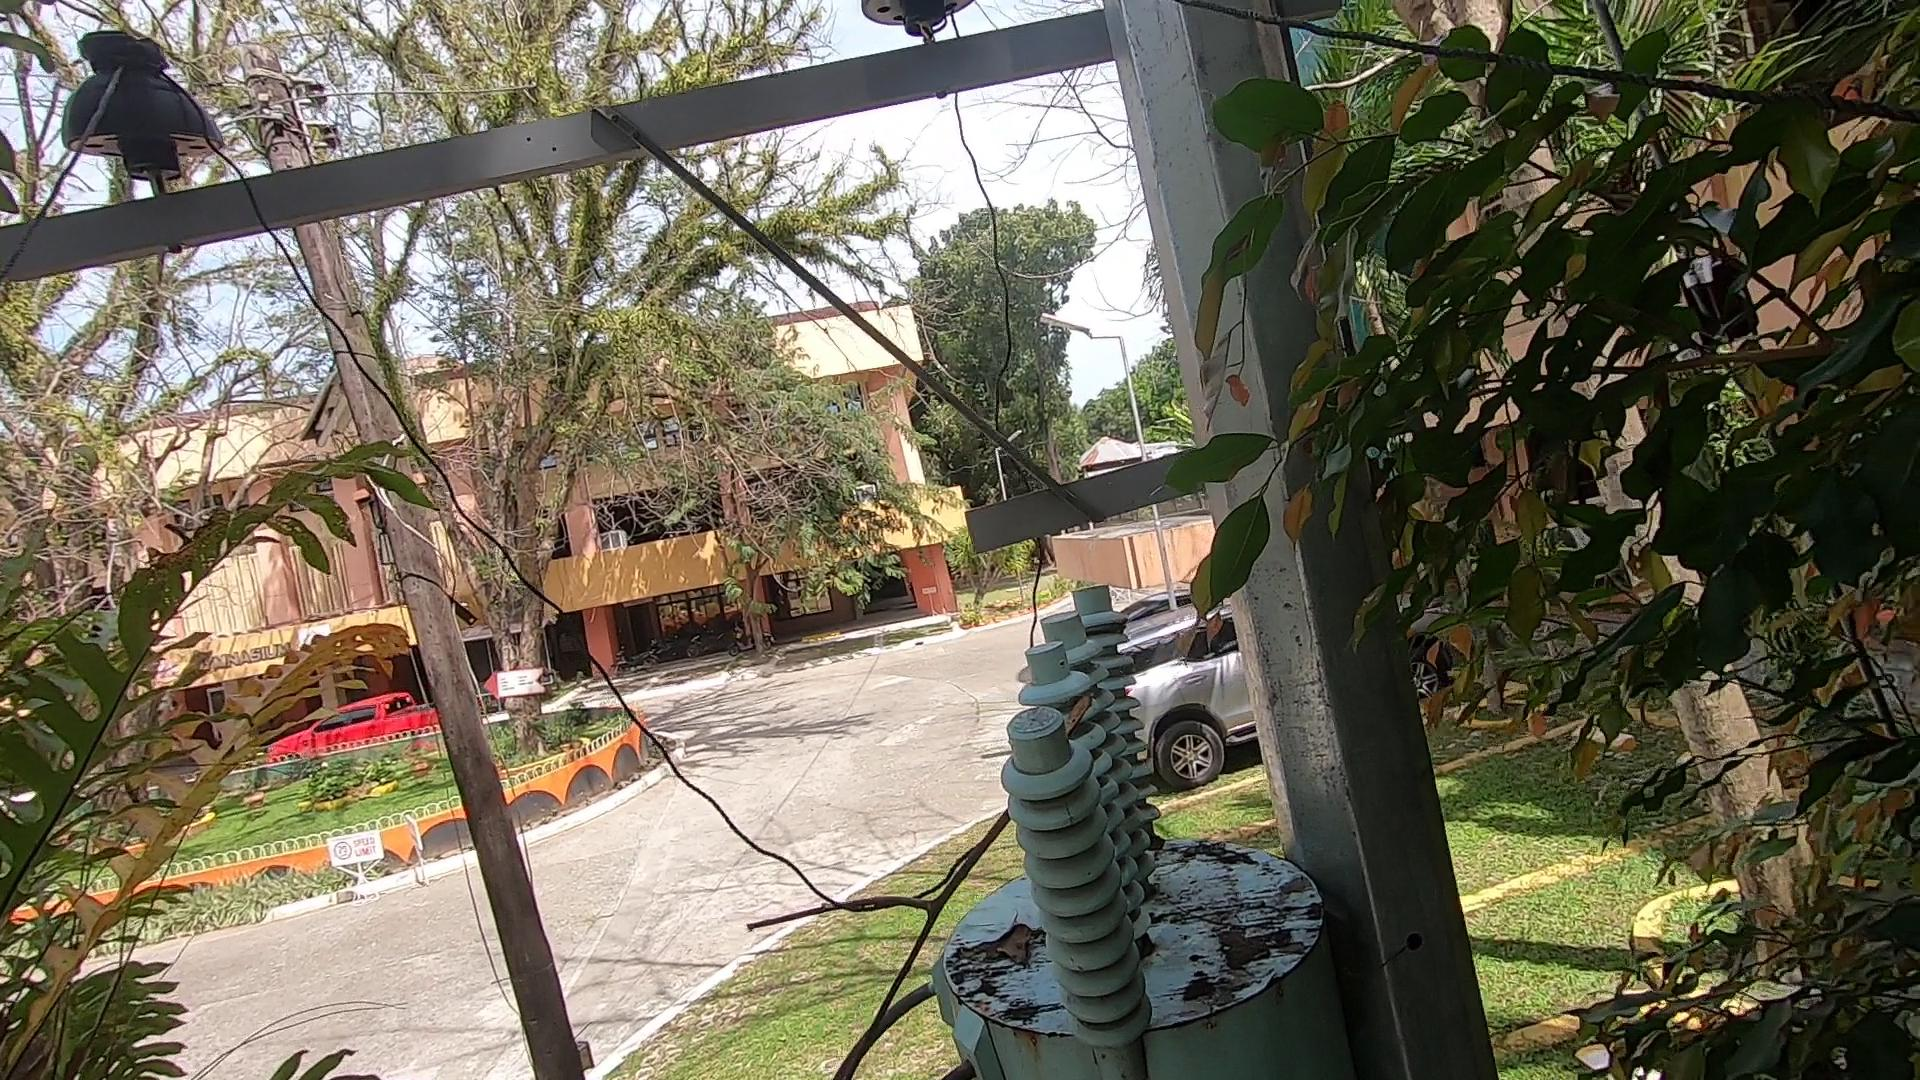leaf: (978, 909, 1047, 977)
tree branch: (702, 680, 1108, 1080)
